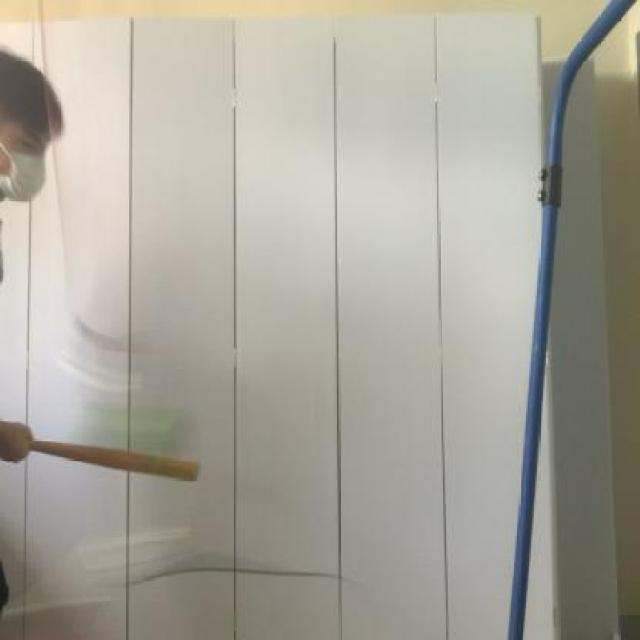baseball: (73, 374, 196, 457)
